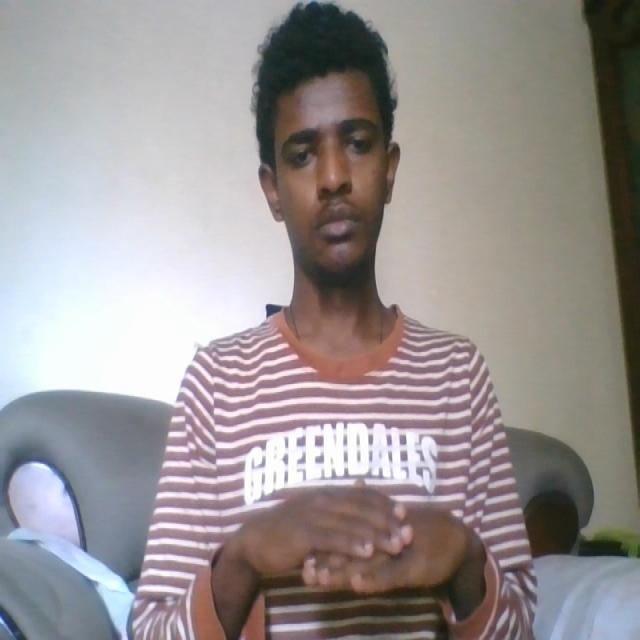lay: (228, 478, 476, 608)
